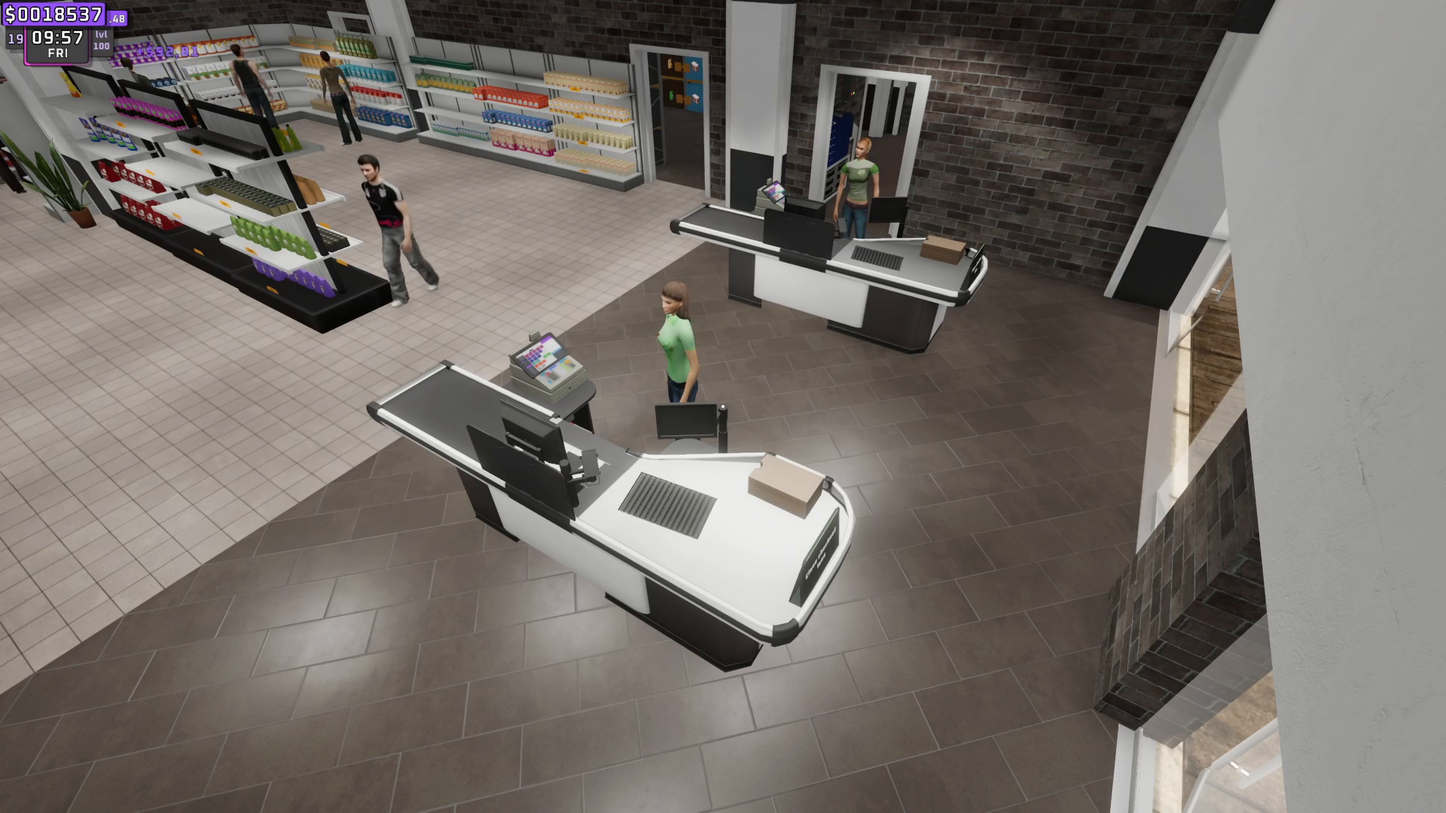Employee: (652, 272, 705, 401), (834, 136, 880, 228)
